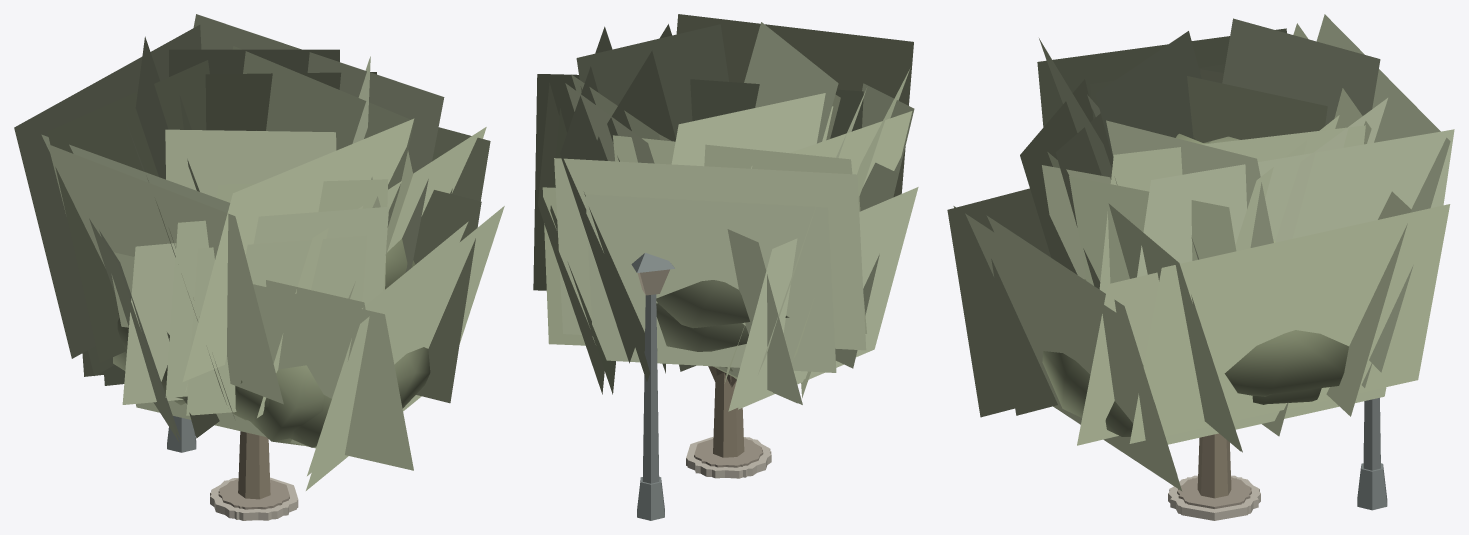
The model's file is avenue_1.glb.
3 renders of one model, left to right at view 1: azimuth 30°, elevation 25°; view 2: azimuth 150°, elevation 25°; view 3: azimuth 270°, elevation 25°, orthographic. The views are drawn at different scales.
Visible parts, largest first — view 1: Near, Mid, Far; view 2: Near, Mid, Far; view 3: Mid, Near.
Part boxes in pixels (bbox=[...]): Near: bbox=[41, 36, 481, 520]; Mid: bbox=[14, 14, 504, 520]; Far: bbox=[118, 239, 415, 519]; Near: bbox=[542, 14, 913, 520]; Mid: bbox=[533, 26, 918, 478]; Far: bbox=[692, 441, 771, 477]; Mid: bbox=[947, 14, 1454, 513]; Near: bbox=[983, 18, 1411, 520].
Size of the model in its own units: 1.18 by 1.18 by 1.25.
